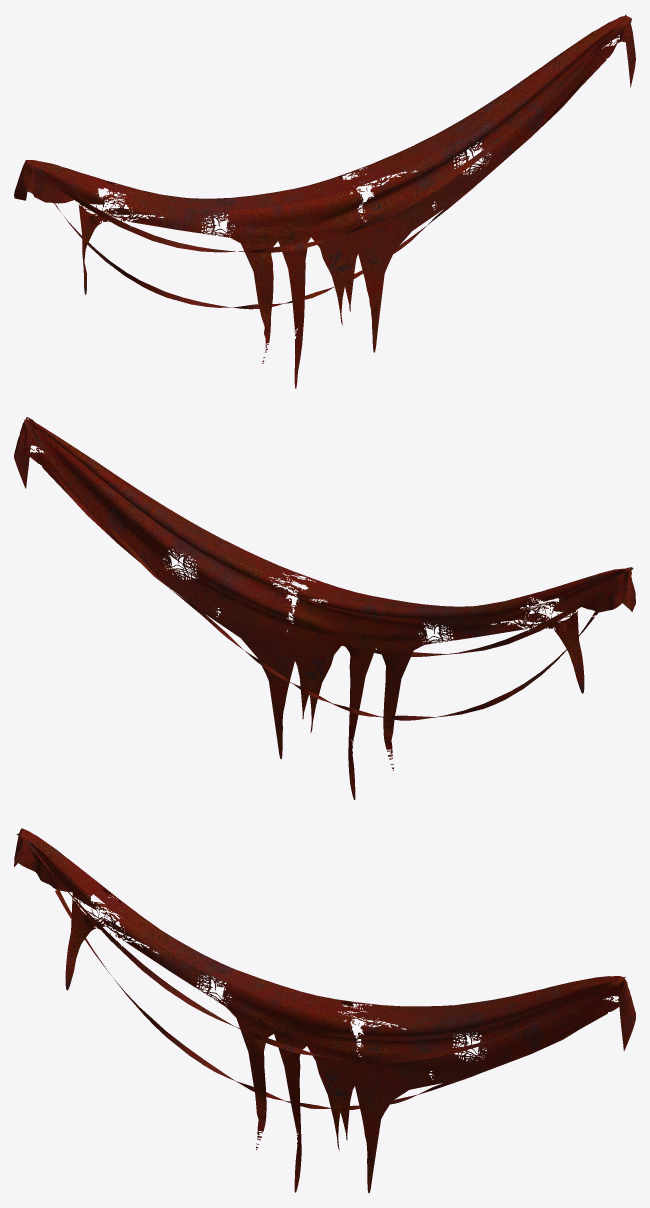
The model's file is P_Cloth08.fbx.
3 views of the same model, one above another, from view 1: azimuth 30°, elevation 25°; view 2: azimuth 150°, elevation 25°; view 3: azimuth 330°, elevation 25° (orthographic).
Visible parts, largest first — view 1: P_Cloth08; view 2: P_Cloth08; view 3: P_Cloth08.
Part boxes in pixels (x1,y1,x2,y2): P_Cloth08: (14, 14, 635, 388); P_Cloth08: (14, 417, 635, 799); P_Cloth08: (14, 828, 635, 1193).
Size of the model in its own units: 4425 by 2028 by 214.
